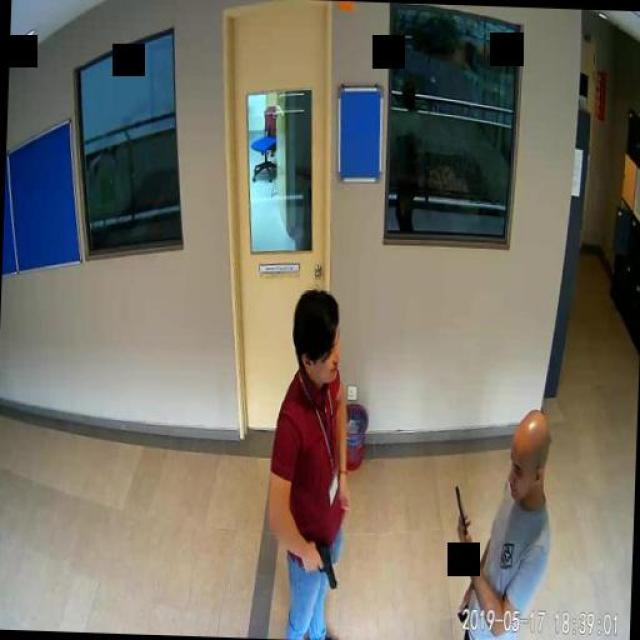gun: (306, 538, 336, 588)
